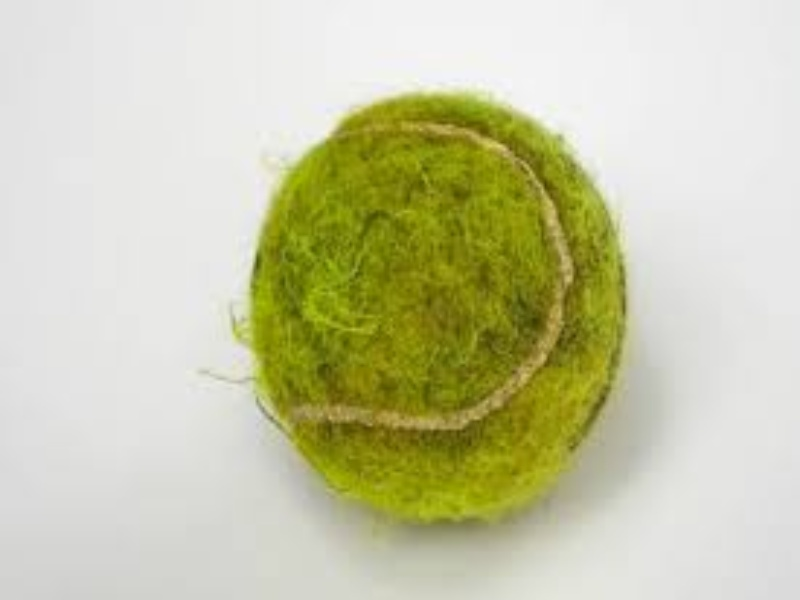tennis ball: (234, 77, 653, 535)
